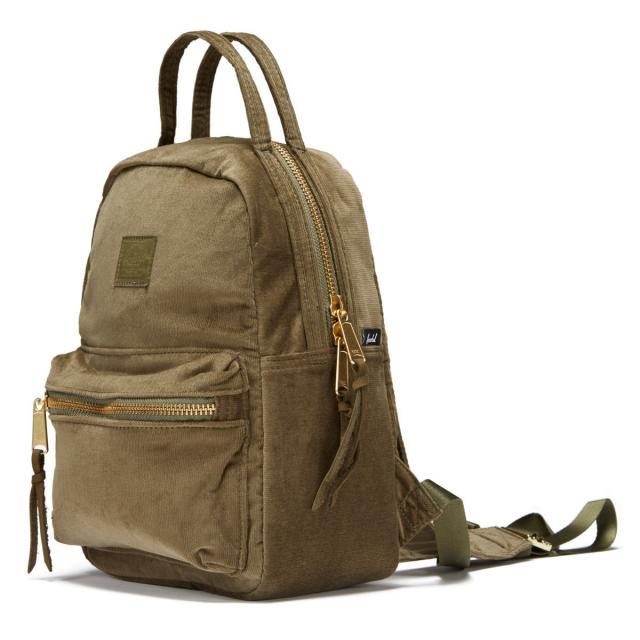Backpacks: (38, 126, 419, 604)
